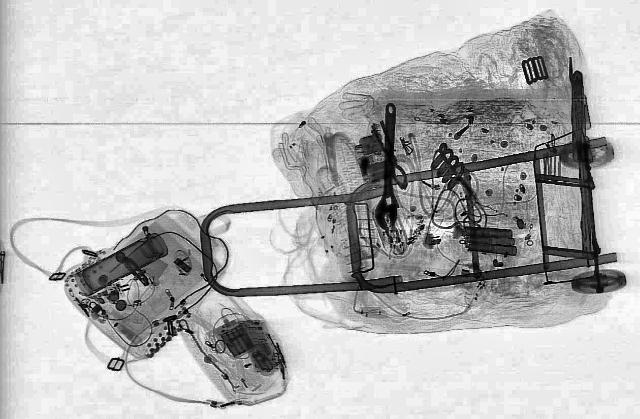Wrench: (373, 101, 402, 229)
